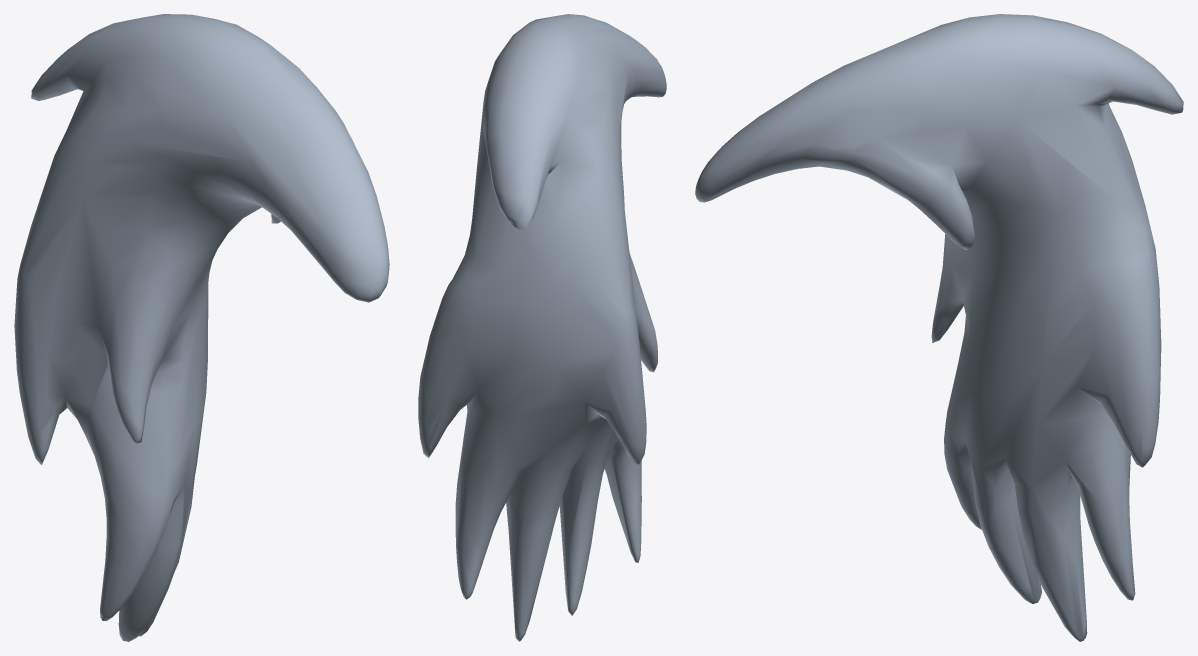
File: Tail_12.fbx
The picture shows the model from 3 angles, left to right: view 1: azimuth 30°, elevation 25°; view 2: azimuth 150°, elevation 25°; view 3: azimuth 270°, elevation 25°; orthographic projection. The views are drawn at different scales.
Visible parts, largest first — view 1: Tail_12; view 2: Tail_12; view 3: Tail_12.
Part boxes in pixels (x1=…): Tail_12: x1=14, y1=14, x2=389, y2=641; Tail_12: x1=418, y1=14, x2=666, y2=641; Tail_12: x1=695, y1=14, x2=1183, y2=641.
Size of the model in its own units: 100 by 265 by 186.
